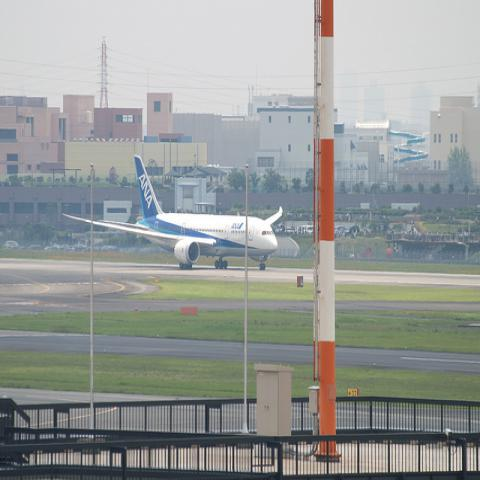car: (3, 238, 19, 249), (43, 246, 58, 251)
